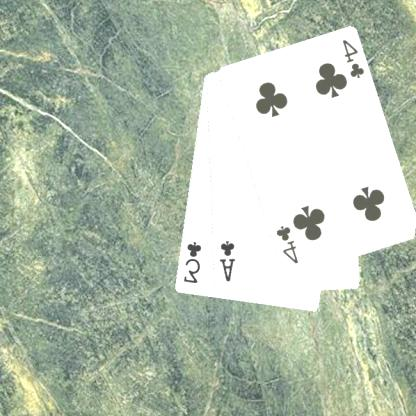3C: (182, 239, 204, 285)
4C: (274, 223, 302, 266), (341, 36, 367, 80)
AC: (218, 238, 238, 283)
